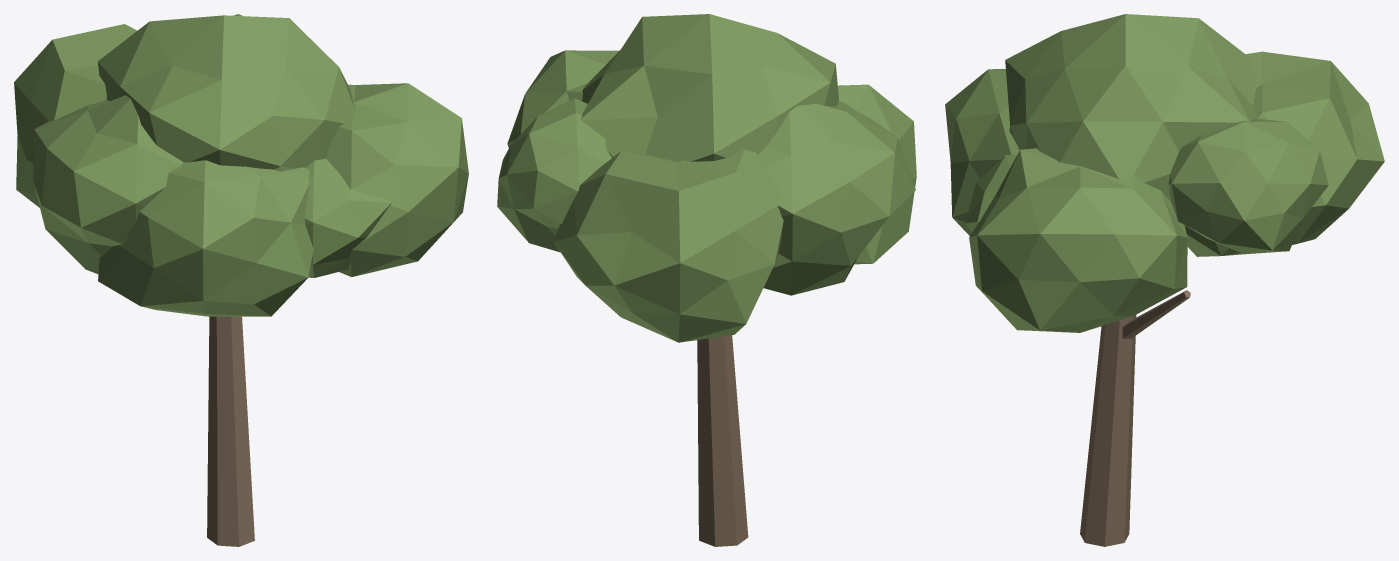
File: TreeBroad_A.gltf
3 renders of one model, left to right at view 1: azimuth 30°, elevation 25°; view 2: azimuth 150°, elevation 25°; view 3: azimuth 270°, elevation 25°, orthographic. The views are drawn at different scales.
Parts seen in each view (by area): view 1: TreeBroad_A; view 2: TreeBroad_A; view 3: TreeBroad_A.
Boxes of the visible parts, <box> form: TreeBroad_A: <box>14,14,468,546</box>; TreeBroad_A: <box>497,14,916,546</box>; TreeBroad_A: <box>945,14,1384,546</box>.
Size of the model in its own units: 6.29 by 8.21 by 6.25.
